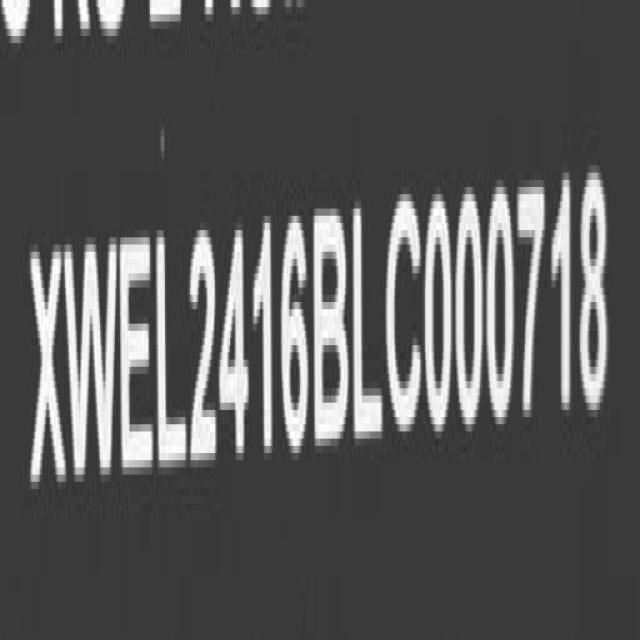0: (425, 184, 456, 439), (486, 178, 516, 430), (454, 182, 482, 433)
1: (253, 207, 279, 470), (553, 170, 576, 426)
2: (190, 224, 222, 483)
4: (218, 212, 251, 476)
6: (283, 206, 314, 464)
7: (518, 170, 547, 427)
8: (581, 165, 610, 418)
B: (312, 200, 351, 460)
C: (387, 186, 426, 448)
E: (121, 228, 157, 491)
L: (153, 224, 189, 476), (352, 190, 386, 455)
W: (66, 230, 120, 495)
X: (29, 237, 68, 498)
